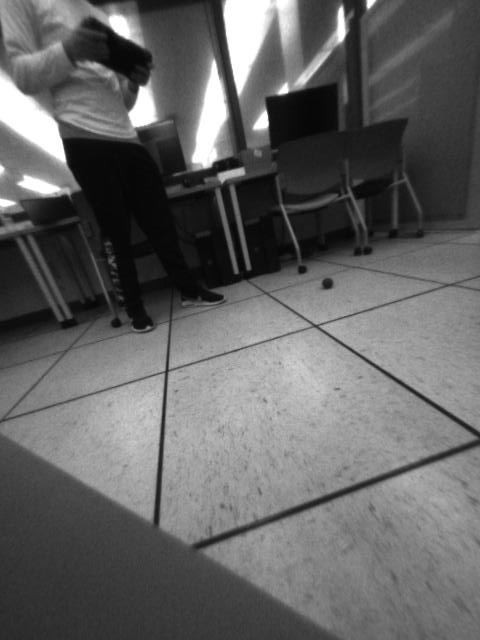dogtoy: (316, 269, 340, 295)
